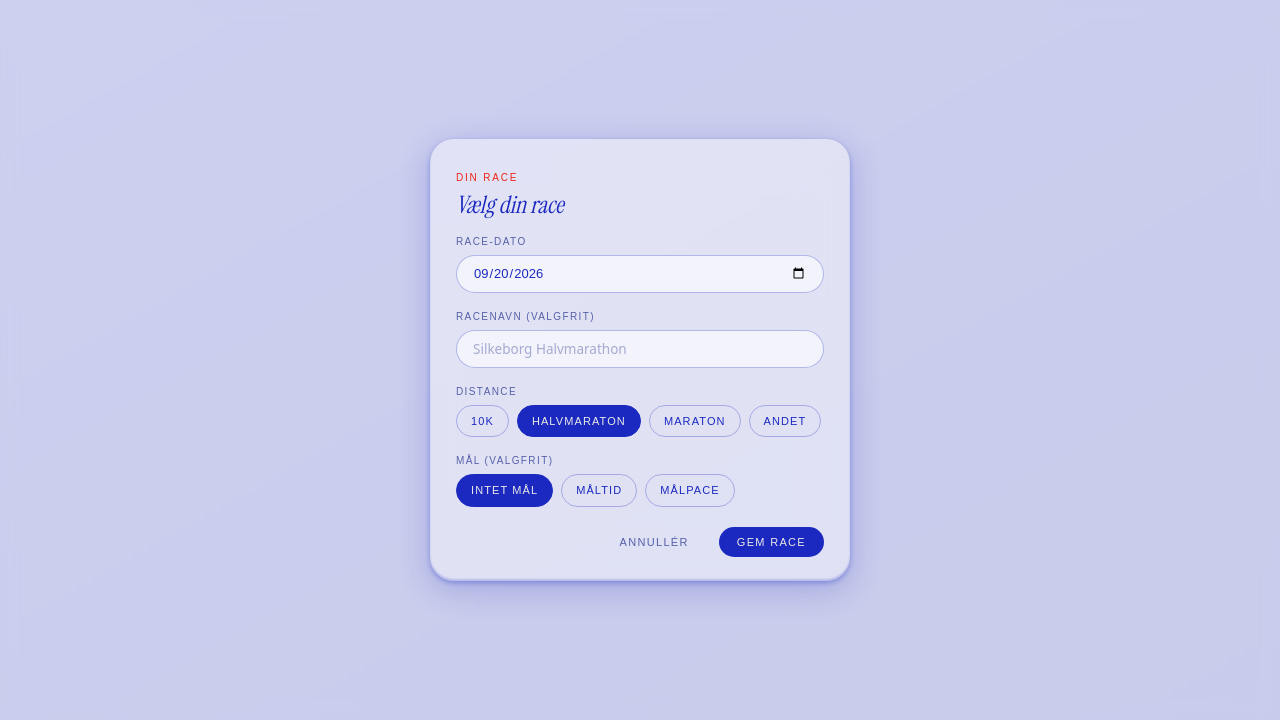
Scenario: RaceDateDialog — goal entry (issue #239) › auto-inserts colons for digits-only entry so an iOS keypad works
The width and height of the screenshot is (1280, 720).
Click the button "Måltid" at [599, 491], box x1=561 y1=474 x2=637 y2=507
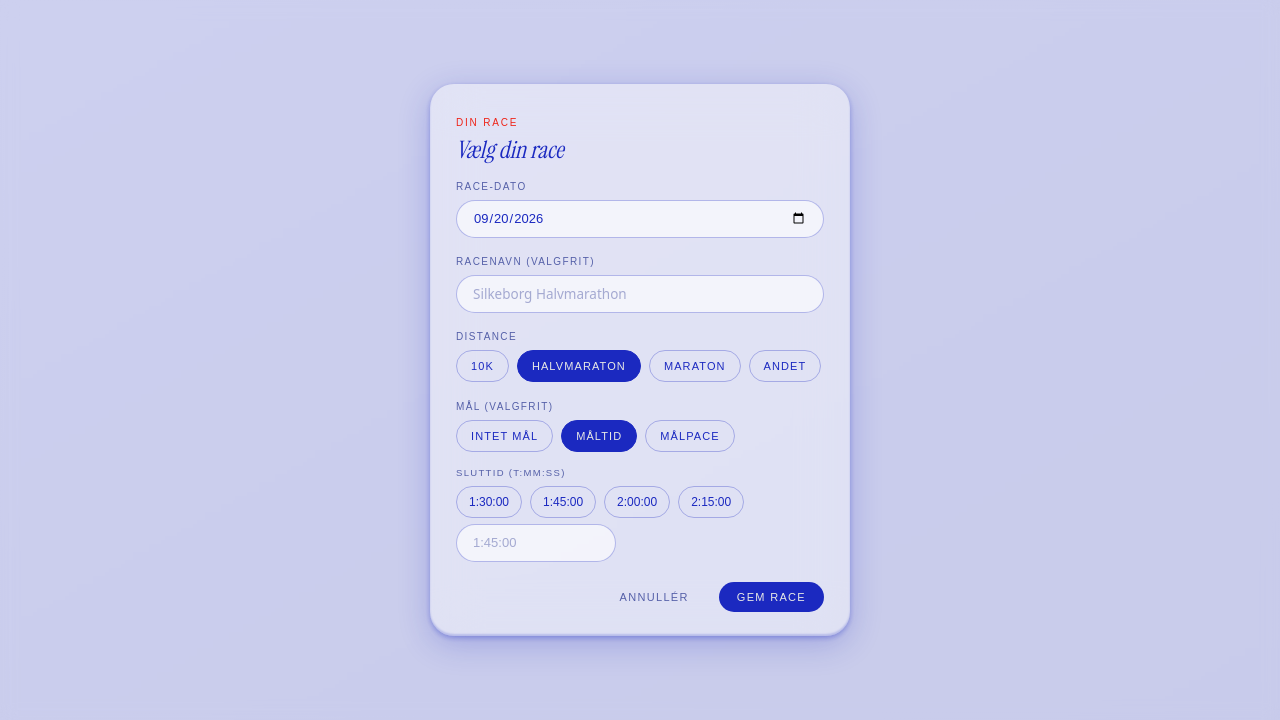
Type "14500" into the field named "Sluttid" at [536, 543], box x1=456 y1=524 x2=616 y2=562
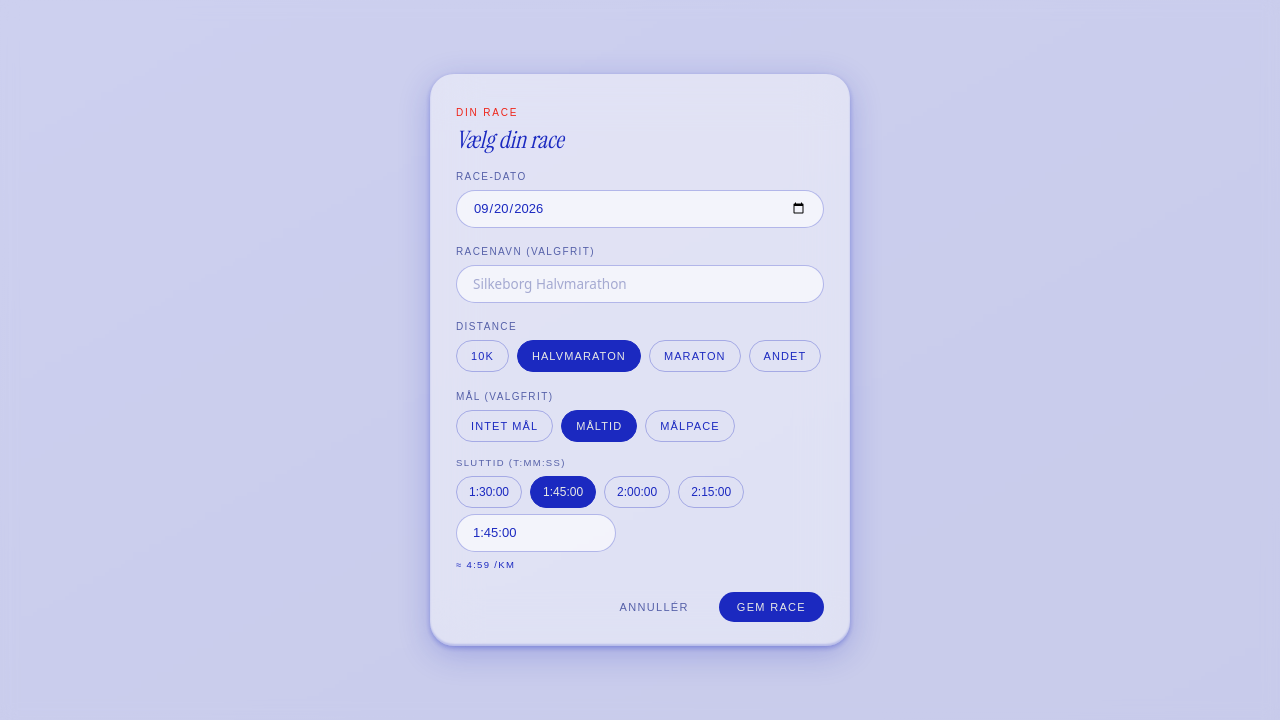
Expected: the field named "Sluttid" holds "1:45:00", x1=456 y1=514 x2=616 y2=552
Note: Pace mode formats to m:ss.
Click the button "Målpace" at [690, 426], box x1=645 y1=409 x2=735 y2=442
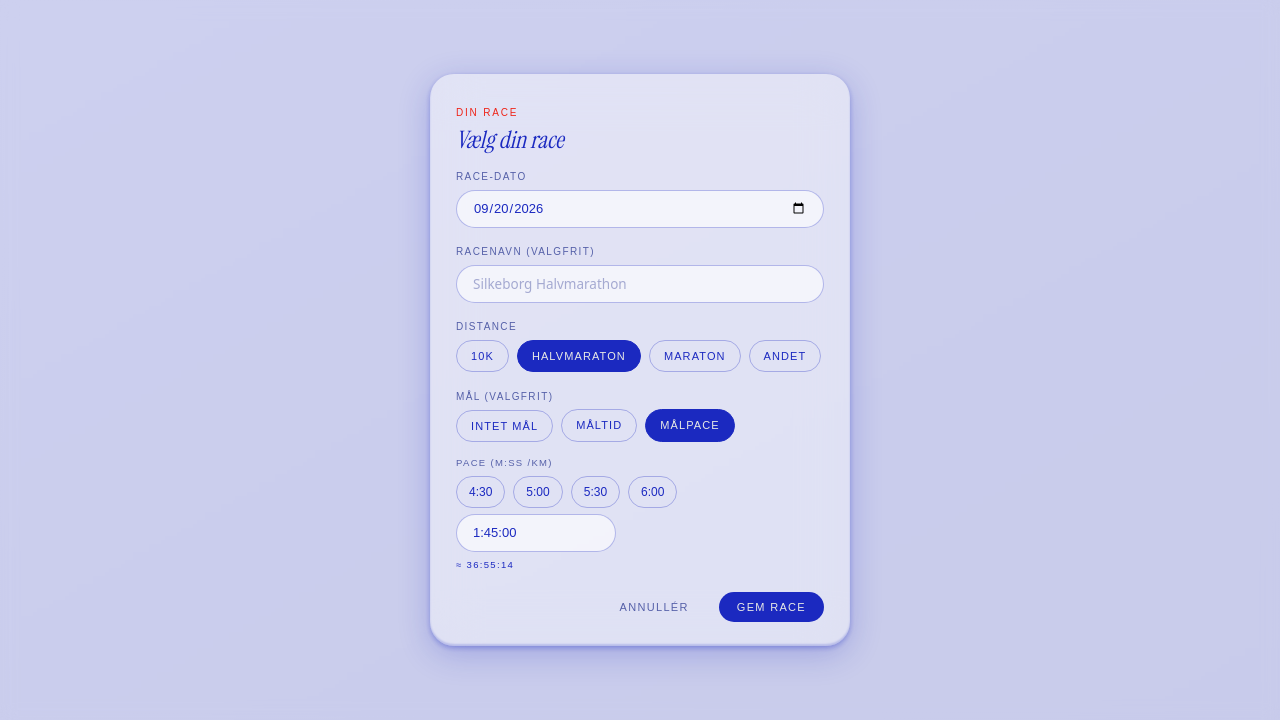
Replace the text in the field named "Målpace" with "500" at [536, 533], box x1=456 y1=514 x2=616 y2=552
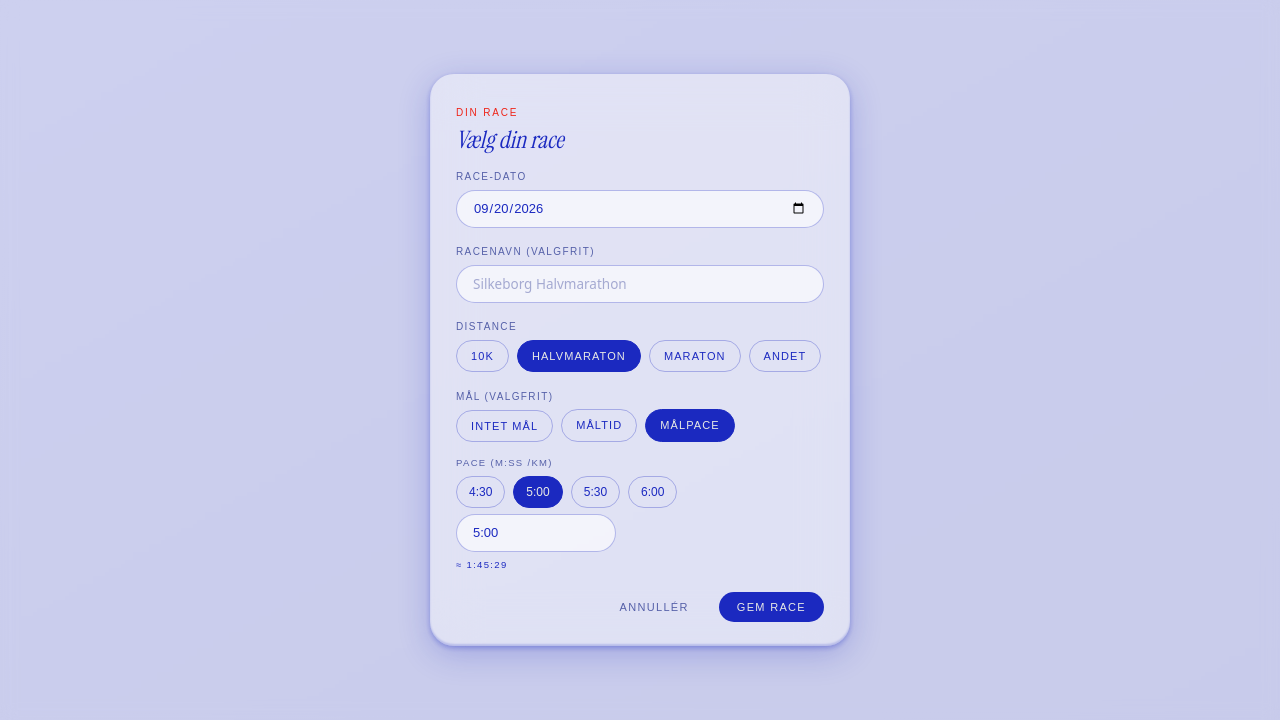
Expected: the field named "Målpace" holds "5:00", x1=456 y1=514 x2=616 y2=552
